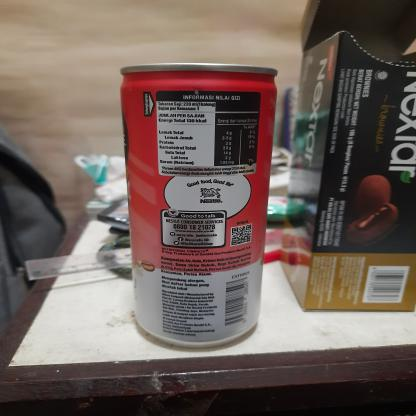can: (108, 54, 276, 355)
